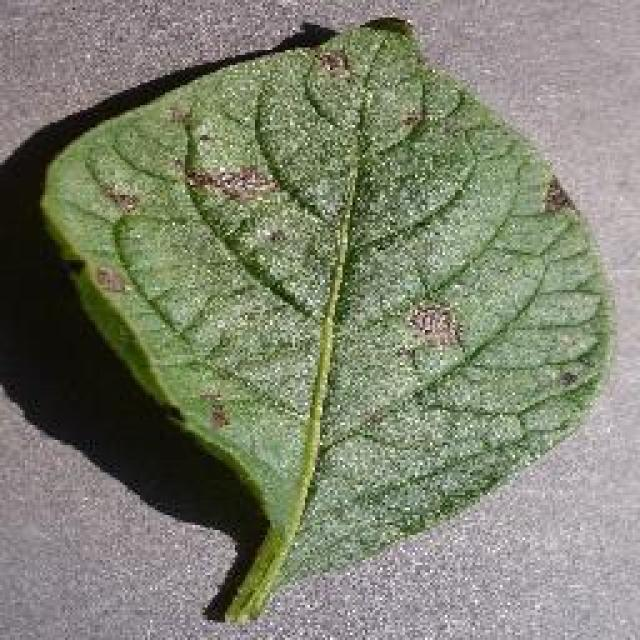early_blight: (32, 12, 620, 628)
